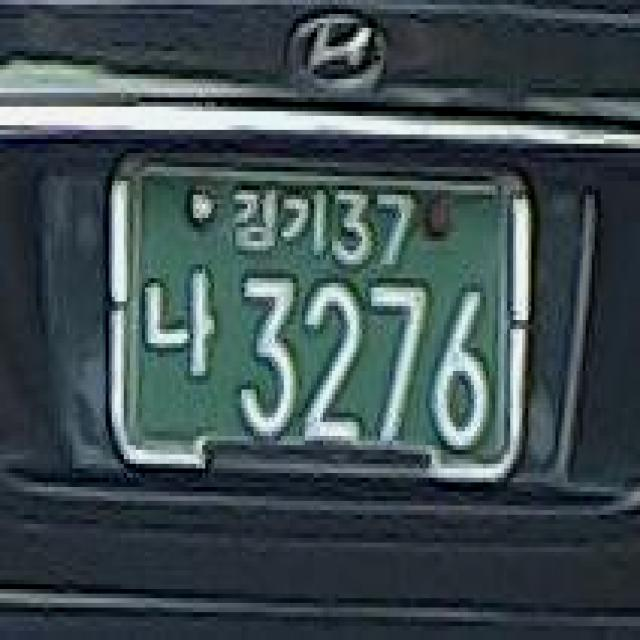illegal_plate: (89, 138, 548, 497)
